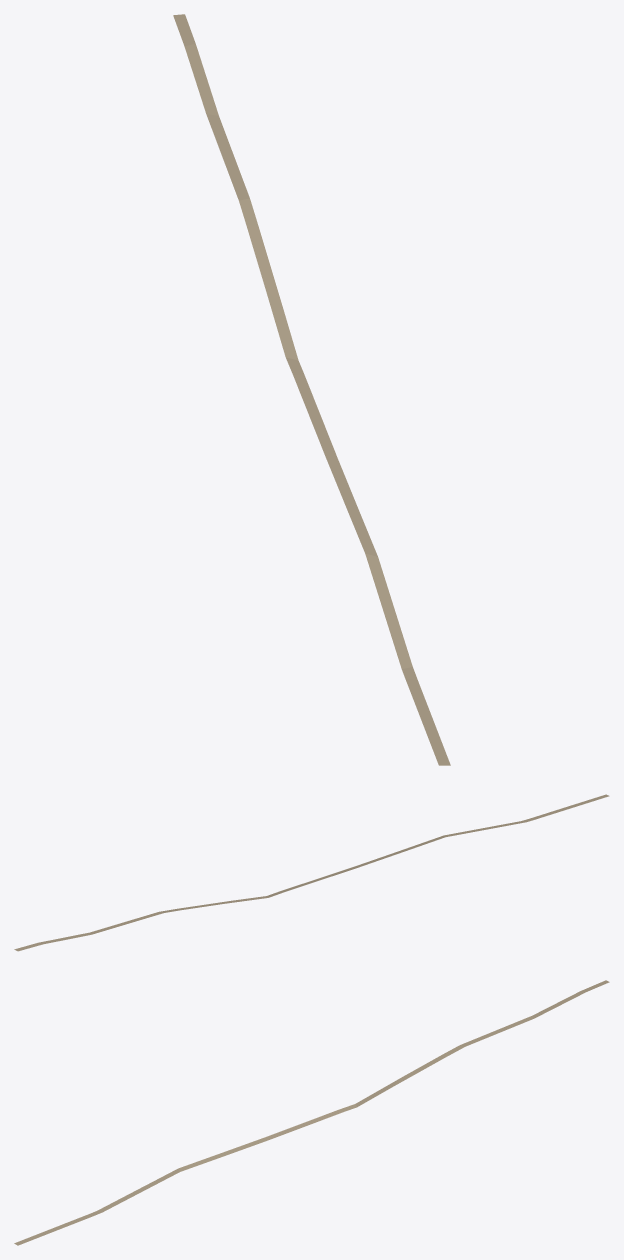
The model's file is farm_16_4_track.glb.
3 views of the same model, one above another, from view 1: azimuth 30°, elevation 25°; view 2: azimuth 150°, elevation 25°; view 3: azimuth 330°, elevation 25° (orthographic). The views are drawn at different scales.
Visible parts, largest first — view 1: geometry_0; view 2: geometry_0; view 3: geometry_0.
Part boxes in pixels (x1,y1,x2,y2): geometry_0: [173, 14, 450, 765]; geometry_0: [14, 794, 609, 951]; geometry_0: [14, 980, 609, 1245].
Size of the model in its own units: 146 by 32.39 by 393.
